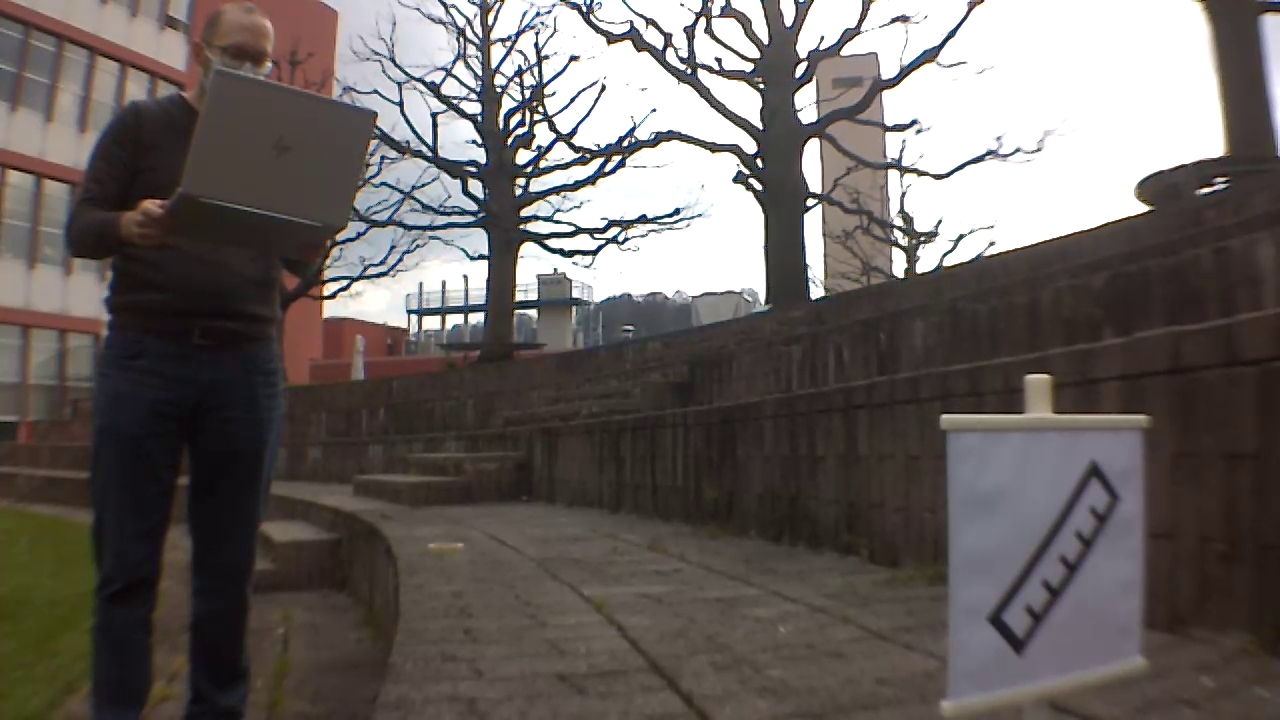ruler: (977, 461, 1131, 659)
